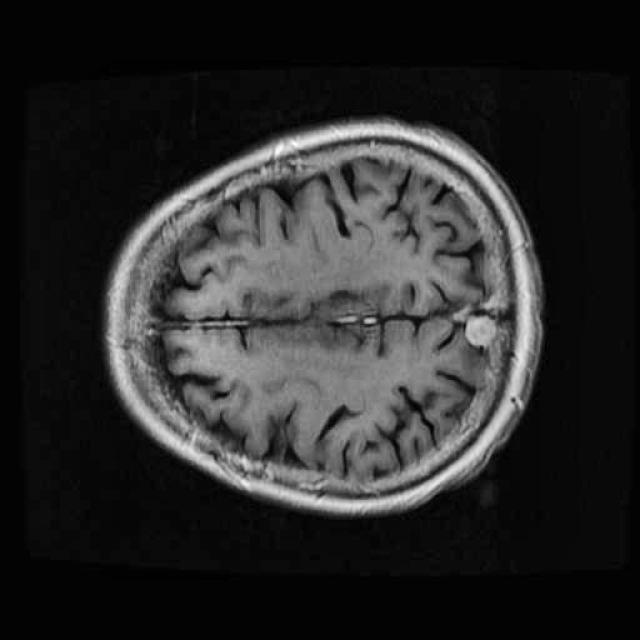Non-Tumor: (456, 309, 504, 356)
